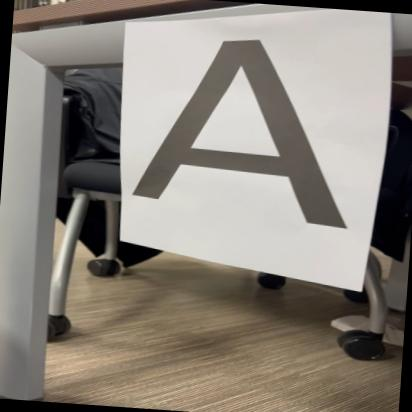seat: (125, 27, 370, 238)
